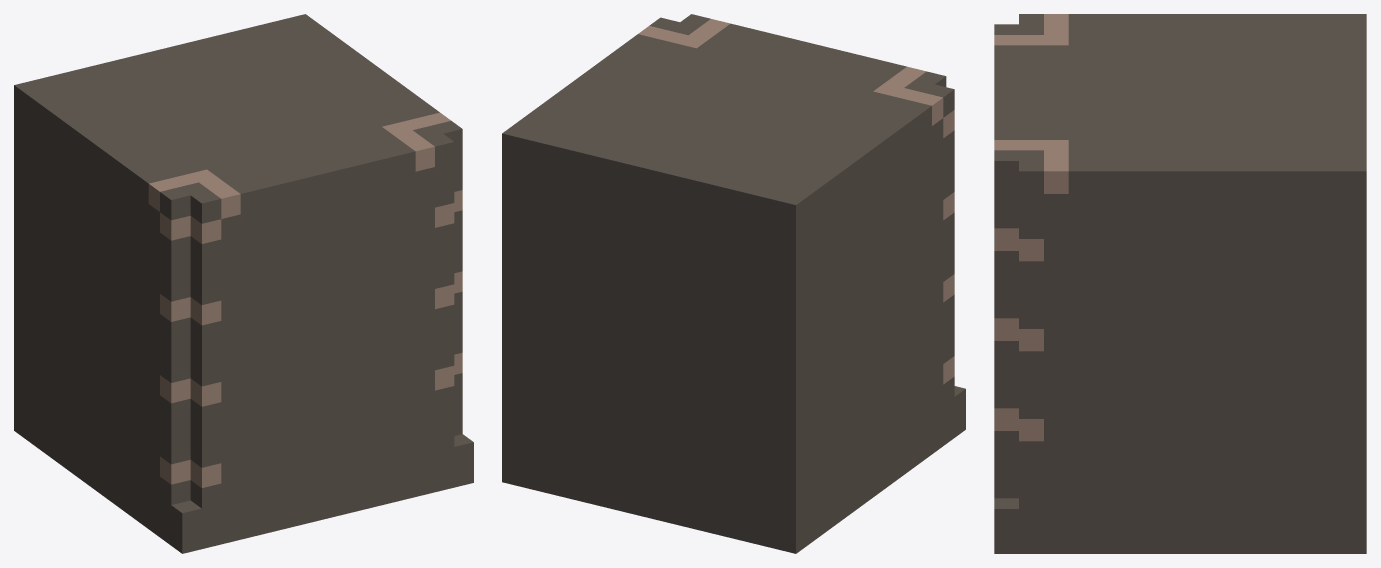
The model's file is dungeon_a_a_outer_wall_segment_b_flipped.obj.
3 renders of one model, left to right at view 1: azimuth 30°, elevation 25°; view 2: azimuth 150°, elevation 25°; view 3: azimuth 270°, elevation 25°, orthographic. The views are drawn at different scales.
Bounding box in the file's own units: 1.5 × 1.7 × 1.5.
Materials: 1 (1 with a texture image).
